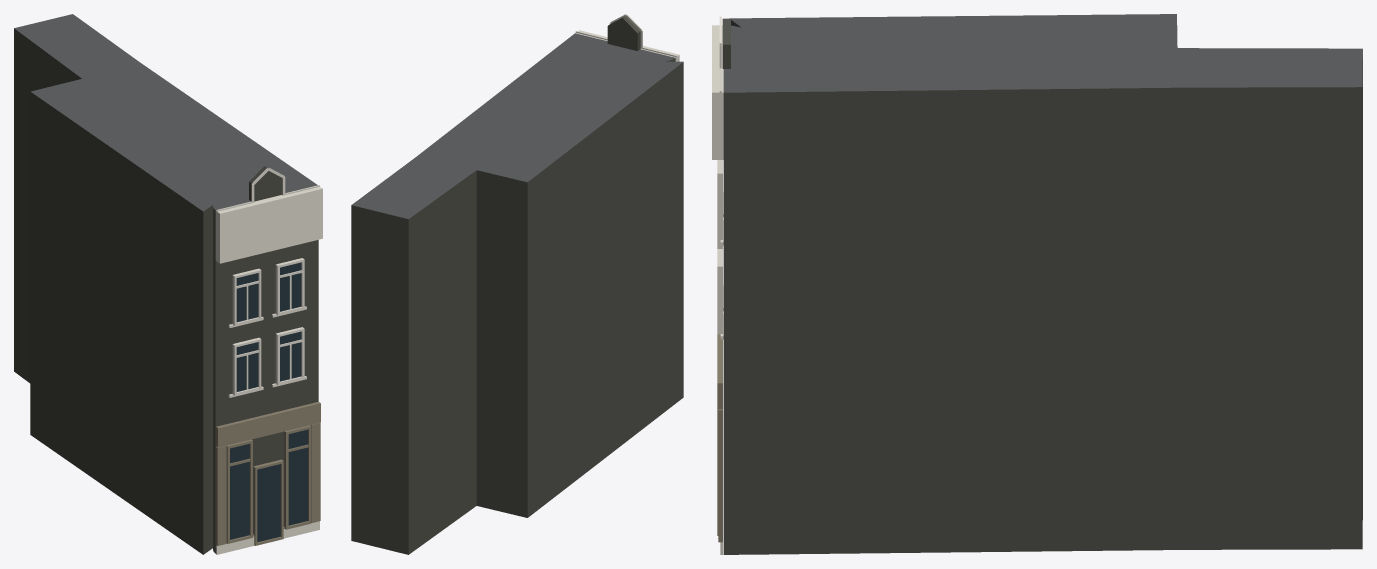
3 renders of one model, left to right at view 1: azimuth 30°, elevation 25°; view 2: azimuth 150°, elevation 25°; view 3: azimuth 270°, elevation 25°, orthographic. The views are drawn at different scales.
Visible parts, largest first — view 1: spec-0363100012176571; view 2: spec-0363100012176571; view 3: spec-0363100012176571.
Boxes of the visible parts, x1=… form: spec-0363100012176571: x1=14, y1=14, x2=322, y2=554; spec-0363100012176571: x1=351, y1=14, x2=683, y2=554; spec-0363100012176571: x1=712, y1=14, x2=1362, y2=554.
Size of the model in its own units: 4.02 by 11.99 by 14.03.
